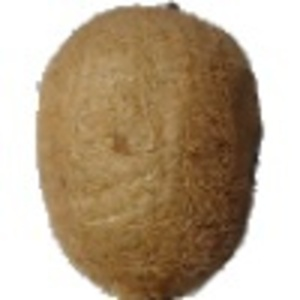kiwi: (34, 2, 266, 300)
